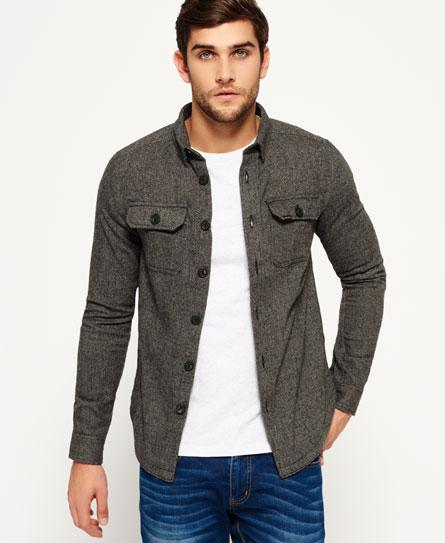teeshirt: (84, 118, 372, 471)
